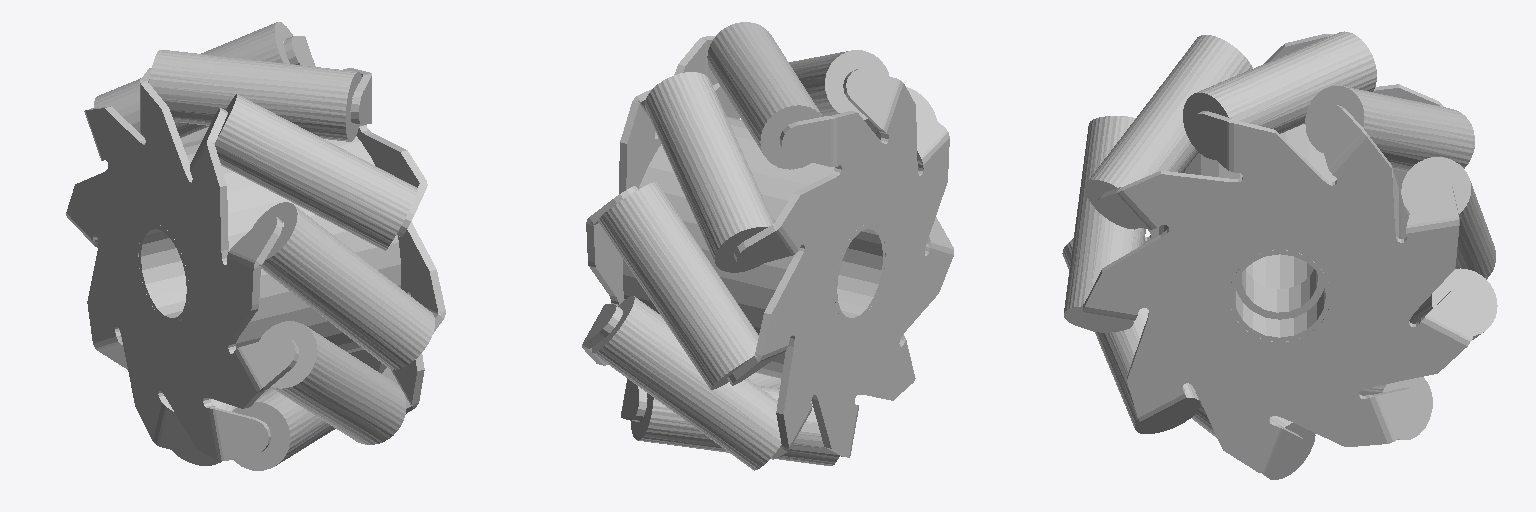
File: mecanum_b.obj
The picture shows the model from 3 angles: view 1: azimuth 30°, elevation 25°; view 2: azimuth 150°, elevation 25°; view 3: azimuth 270°, elevation 25°; orthographic projection.
Visible parts, largest first — view 1: 100mm_Aluminum_Mecanum_wheel_(L)_v5; view 2: 100mm_Aluminum_Mecanum_wheel_(L)_v5; view 3: 100mm_Aluminum_Mecanum_wheel_(L)_v5.
Boxes of the visible parts, x1=… form: 100mm_Aluminum_Mecanum_wheel_(L)_v5: x1=66, y1=22, x2=445, y2=470; 100mm_Aluminum_Mecanum_wheel_(L)_v5: x1=582, y1=22, x2=953, y2=470; 100mm_Aluminum_Mecanum_wheel_(L)_v5: x1=1062, y1=31, x2=1497, y2=479.
Bounding box in the file's own units: 0.05 × 0.1009 × 0.1023.